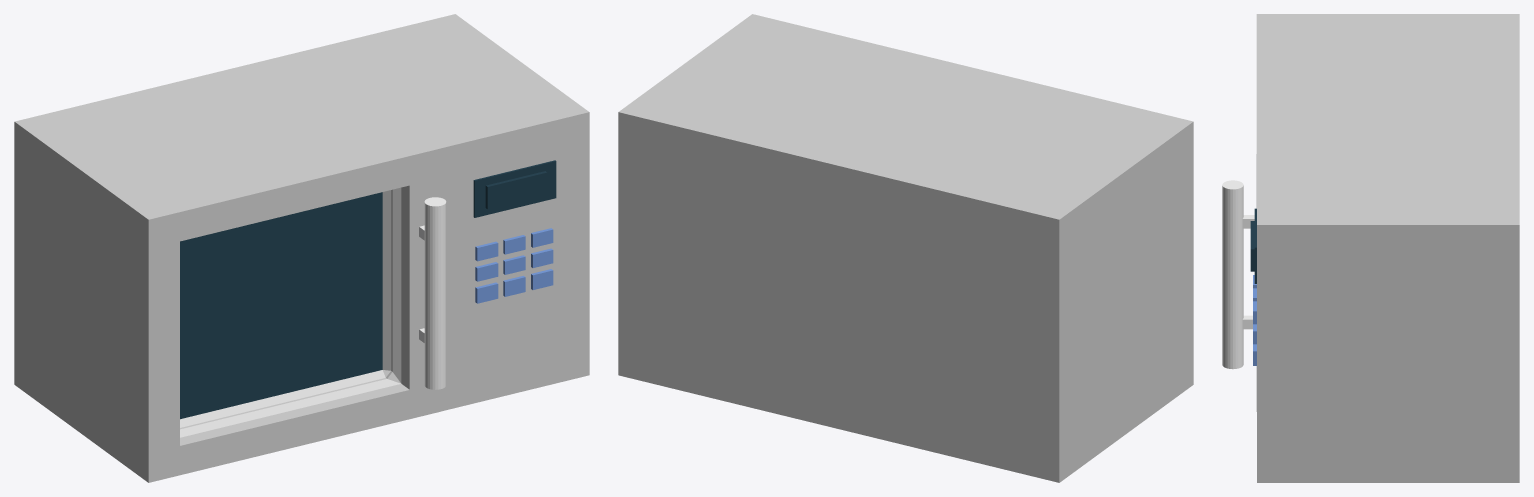
The model's file is microwave.fbx.
3 renders of one model, left to right at view 1: azimuth 30°, elevation 25°; view 2: azimuth 150°, elevation 25°; view 3: azimuth 270°, elevation 25°, orthographic. The views are drawn at different scales.
Visible parts, largest first — view 1: Plane.003, Cube.001; view 2: Plane.003, Cube.001; view 3: Plane.003, Cube.001.
Boxes of the visible parts, x1=… form: Plane.003: x1=14, y1=14, x2=589, y2=476; Cube.001: x1=140, y1=142, x2=446, y2=482; Plane.003: x1=618, y1=14, x2=1185, y2=482; Cube.001: x1=893, y1=50, x2=1193, y2=389; Plane.003: x1=1250, y1=14, x2=1519, y2=482; Cube.001: x1=1222, y1=14, x2=1272, y2=411.
Size of the model in its own units: 170 by 96.87 by 101.
